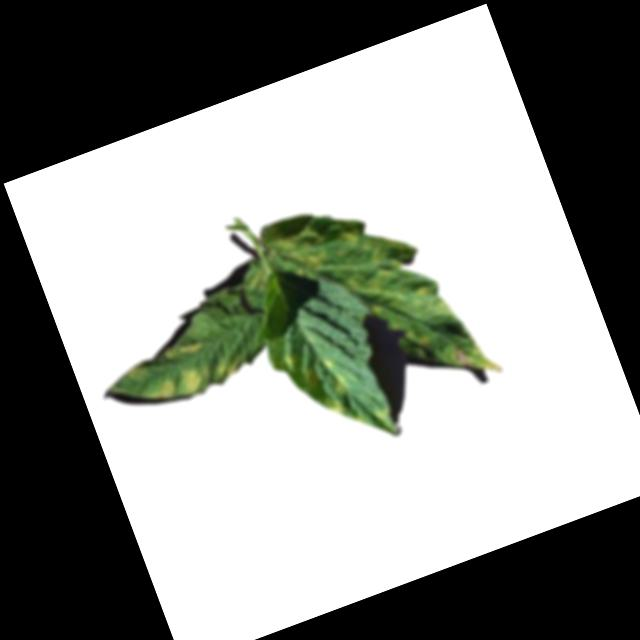Leaf_Mold: (273, 178, 508, 427), (145, 349, 246, 411), (121, 334, 206, 384), (297, 353, 356, 424)
